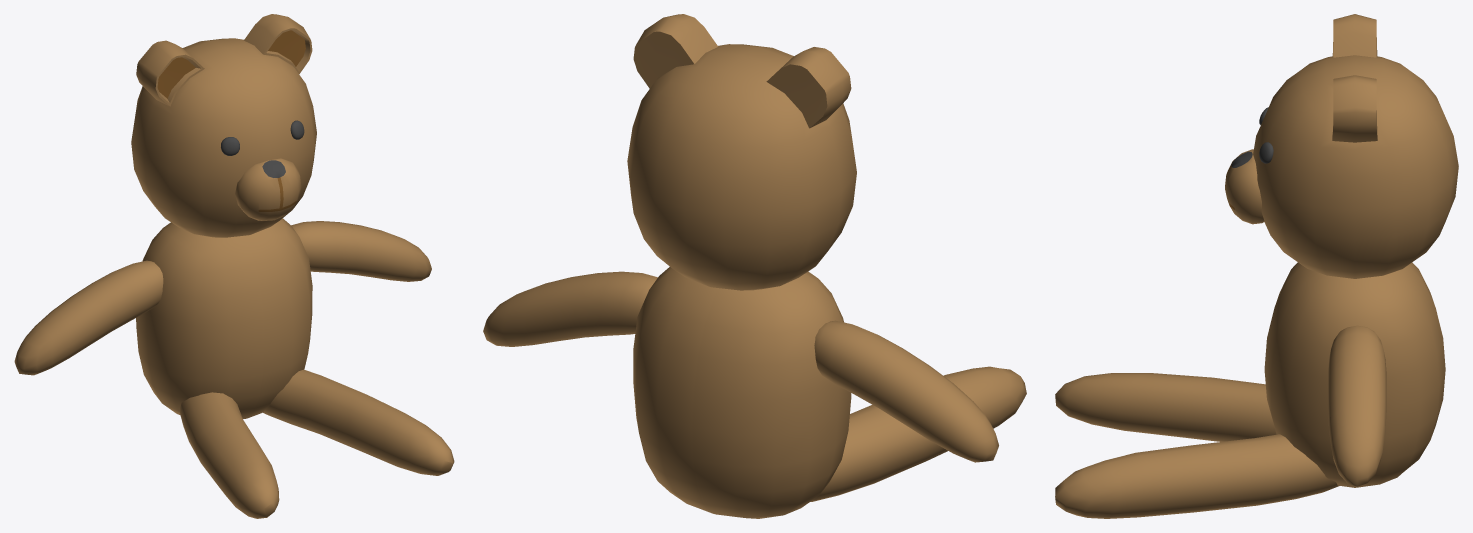
File: Bear_1.fbx
The picture shows the model from 3 angles, left to right: view 1: azimuth 30°, elevation 25°; view 2: azimuth 150°, elevation 25°; view 3: azimuth 270°, elevation 25°; orthographic projection. The views are drawn at different scales.
Visible parts, largest first — view 1: Bear_1; view 2: Bear_1; view 3: Bear_1.
Part boxes in pixels (x1=…): Bear_1: x1=14, y1=14, x2=454, y2=518; Bear_1: x1=483, y1=14, x2=1026, y2=518; Bear_1: x1=1055, y1=14, x2=1458, y2=518.
Bounding box in the file's own units: 0.3863 × 0.3415 × 0.2921.
